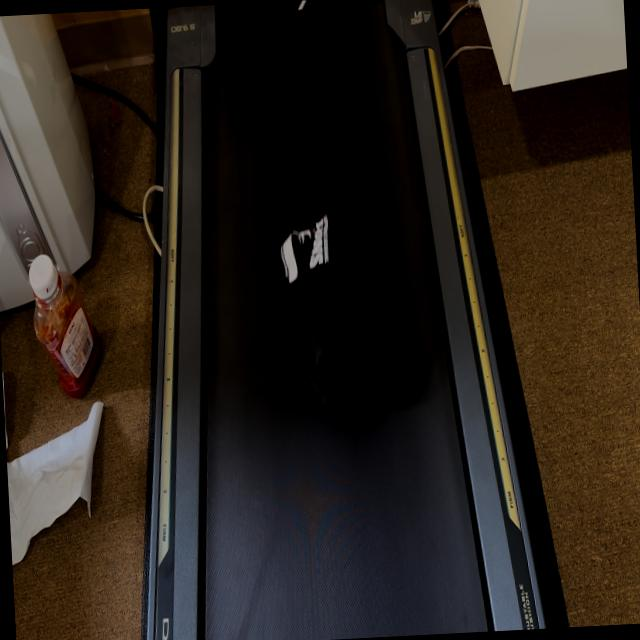Trash: (277, 203, 428, 416)
